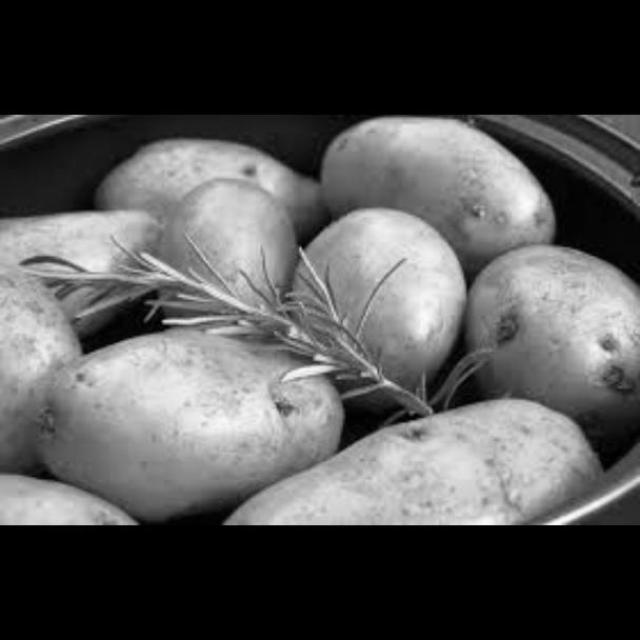khoai tay: (24, 331, 368, 490), (238, 390, 589, 524), (314, 116, 564, 269), (456, 250, 640, 441), (283, 199, 464, 388), (154, 161, 294, 346), (98, 113, 361, 211), (0, 238, 101, 491), (0, 202, 177, 338), (0, 455, 158, 524)
